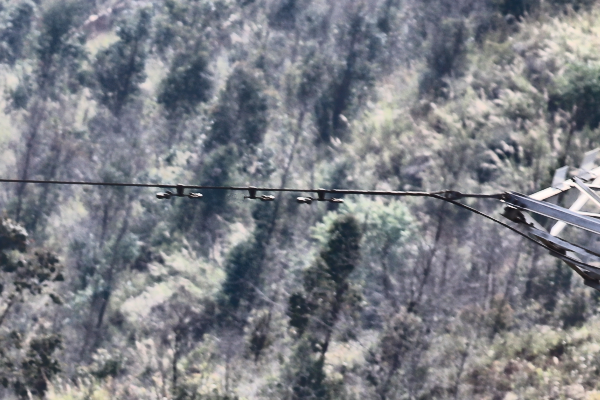damper: (294, 185, 345, 206), (154, 182, 204, 201)
damper_defect: (240, 184, 276, 203)
